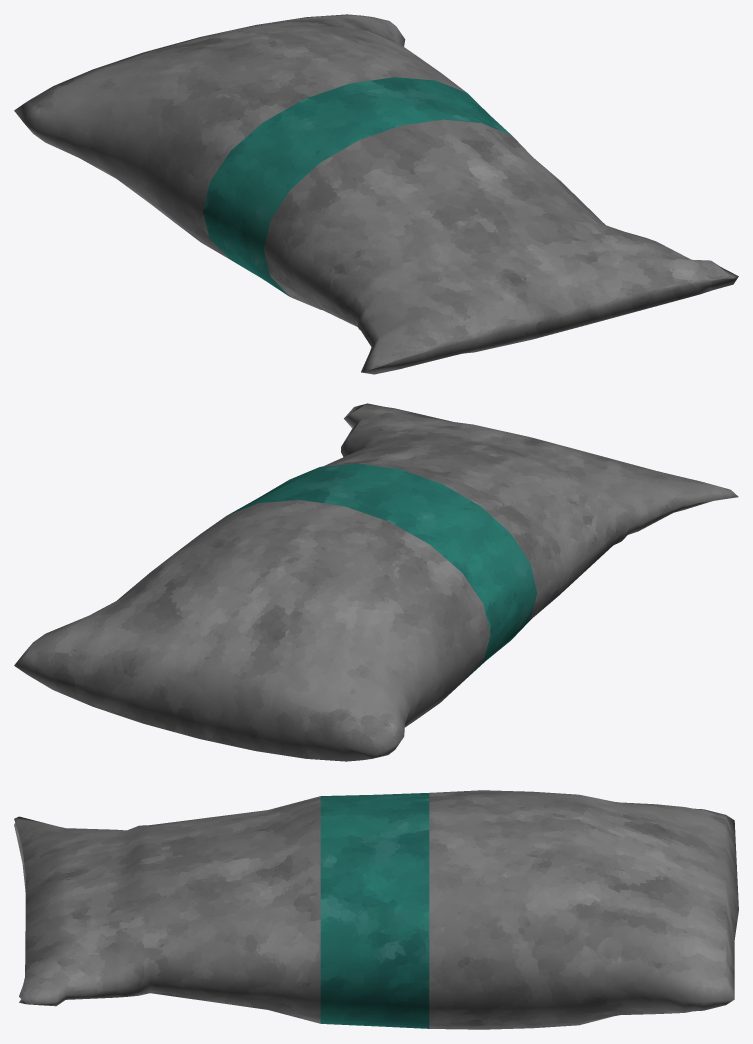
Rendered from Saco de sal.fbx.
3 views of the same model, one above another, from view 1: azimuth 30°, elevation 25°; view 2: azimuth 150°, elevation 25°; view 3: azimuth 270°, elevation 25° (orthographic).
Visible parts, largest first — view 1: Pacote_de_sal; view 2: Pacote_de_sal; view 3: Pacote_de_sal.
Boxes of the visible parts, box(x1,y1,x2,y2) form: Pacote_de_sal: box(14, 14, 738, 374); Pacote_de_sal: box(14, 403, 738, 761); Pacote_de_sal: box(14, 790, 738, 1029).
Size of the model in its own units: 21.33 by 10.04 by 34.77.
Materials: 2 (2 with a texture image).
